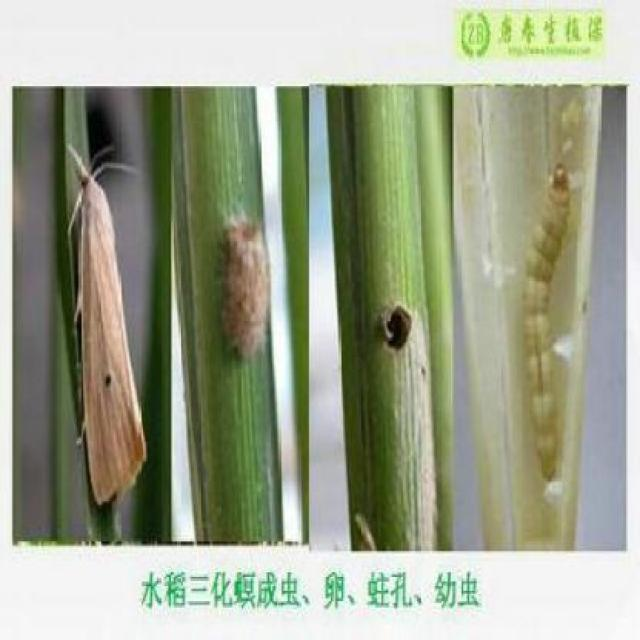stem-borer: (64, 139, 147, 515)
